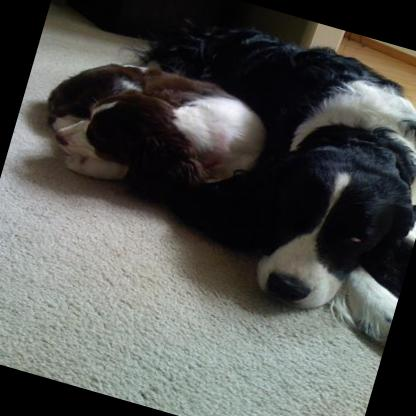English_springer: (65, 0, 416, 343), (26, 37, 274, 219)
